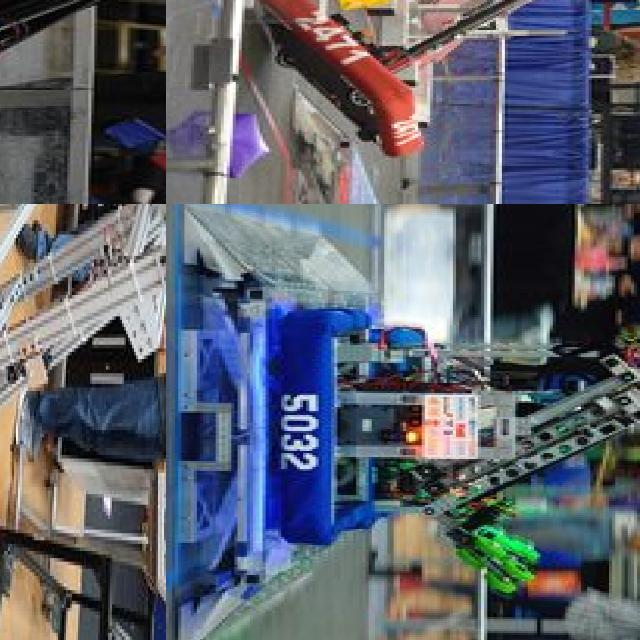FRC-Robots: (229, 204, 640, 635), (170, 0, 640, 204), (0, 204, 166, 640), (0, 0, 166, 159)
